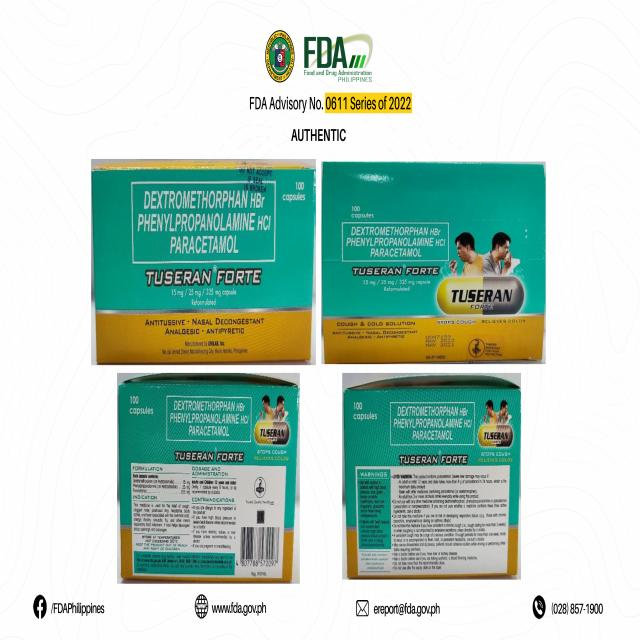authentic: (87, 155, 316, 368), (325, 154, 548, 362), (117, 373, 299, 584), (340, 372, 522, 578)
